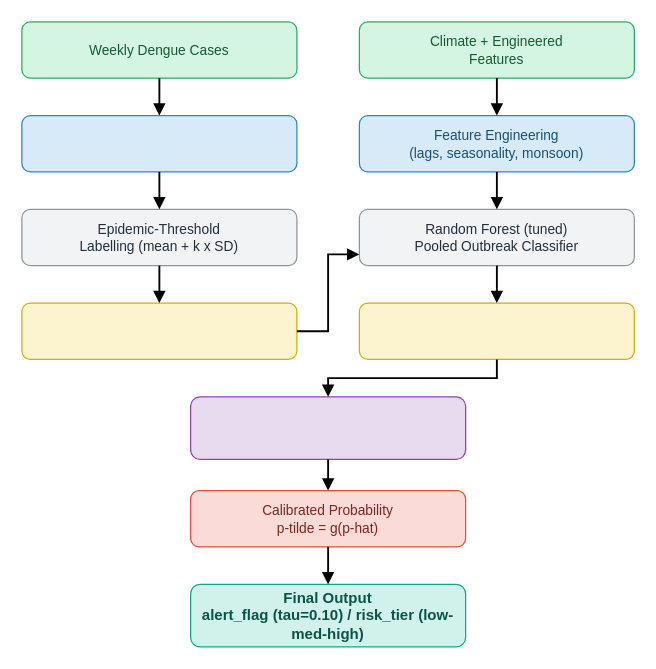
Some shapes in this 656 by 669 pixel diagram are drawn without their labels. The centre of each missing label's shape, as x and y in pixels:
"Data Preprocessing (week-53 kept unmerged)" goes at (159,143).
"Outbreak Labels (binary: 0 / 1)" goes at (159,330).
"Platt Scaling Probability Calibration" goes at (327,427).
"Predicted Probability p-hat per district-week" goes at (496,330).
